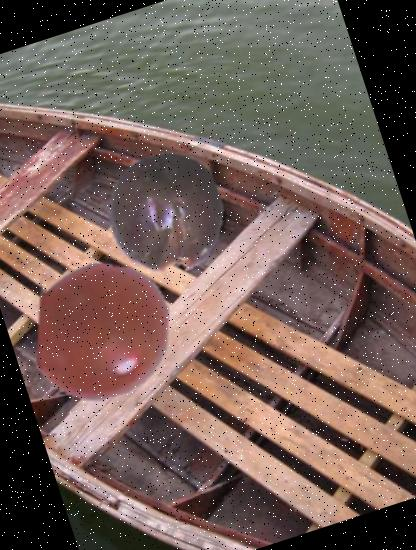Passion: (88, 134, 246, 292)
Redcurrant: (16, 245, 190, 419)
